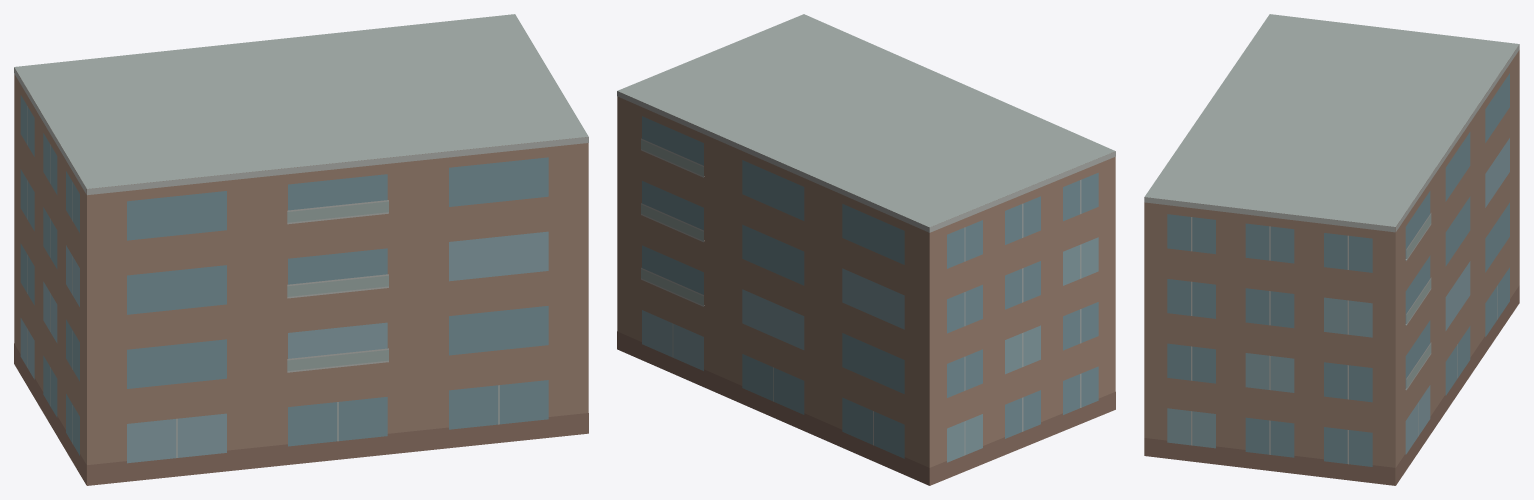
File: survey-upis-32741738.glb
The picture shows the model from 3 angles, left to right: view 1: azimuth 30°, elevation 25°; view 2: azimuth 150°, elevation 25°; view 3: azimuth 270°, elevation 25°; orthographic projection. The views are drawn at different scales.
Visible parts, largest first — view 1: survey-upis-32741738.tmp; view 2: survey-upis-32741738.tmp; view 3: survey-upis-32741738.tmp.
Part boxes in pixels (<box>): survey-upis-32741738.tmp: <box>14,14,588,485</box>; survey-upis-32741738.tmp: <box>617,14,1115,485</box>; survey-upis-32741738.tmp: <box>1144,14,1519,485</box>.
Size of the model in its own units: 20.66 by 11.7 by 15.38.
